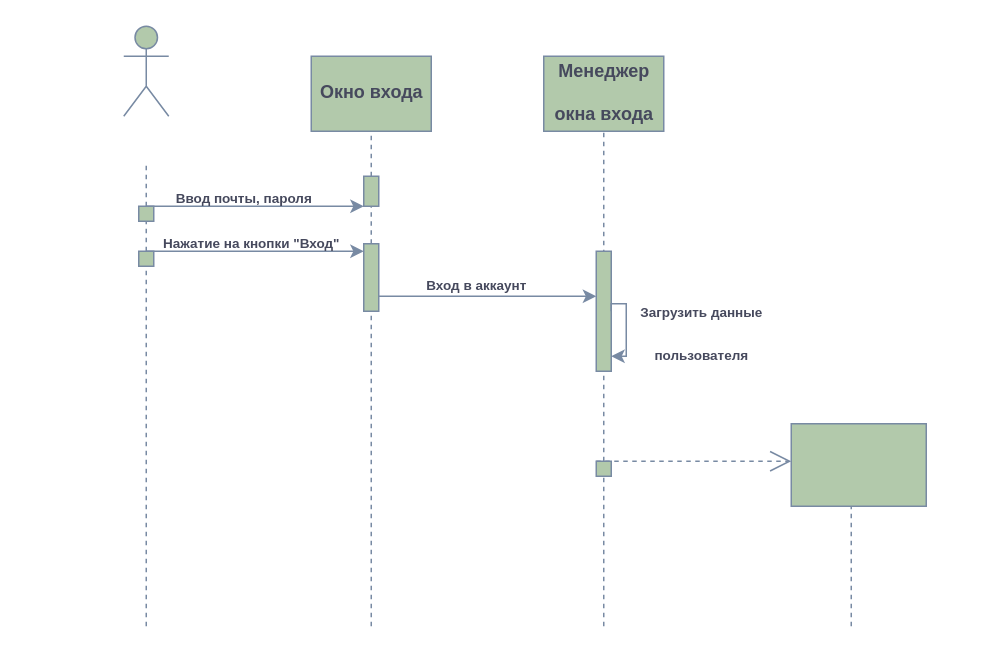
Some shapes in this 998 by 654 pixel diagram are drawn without their labels. The box of each missing label's shape, as (x1, y1, x2, y2) in pixels:
Окно просмотра событий: (790, 422, 926, 506)
Пользователь: (122, 25, 169, 116)
